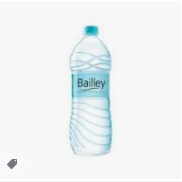Bottle: (70, 26, 111, 155)
